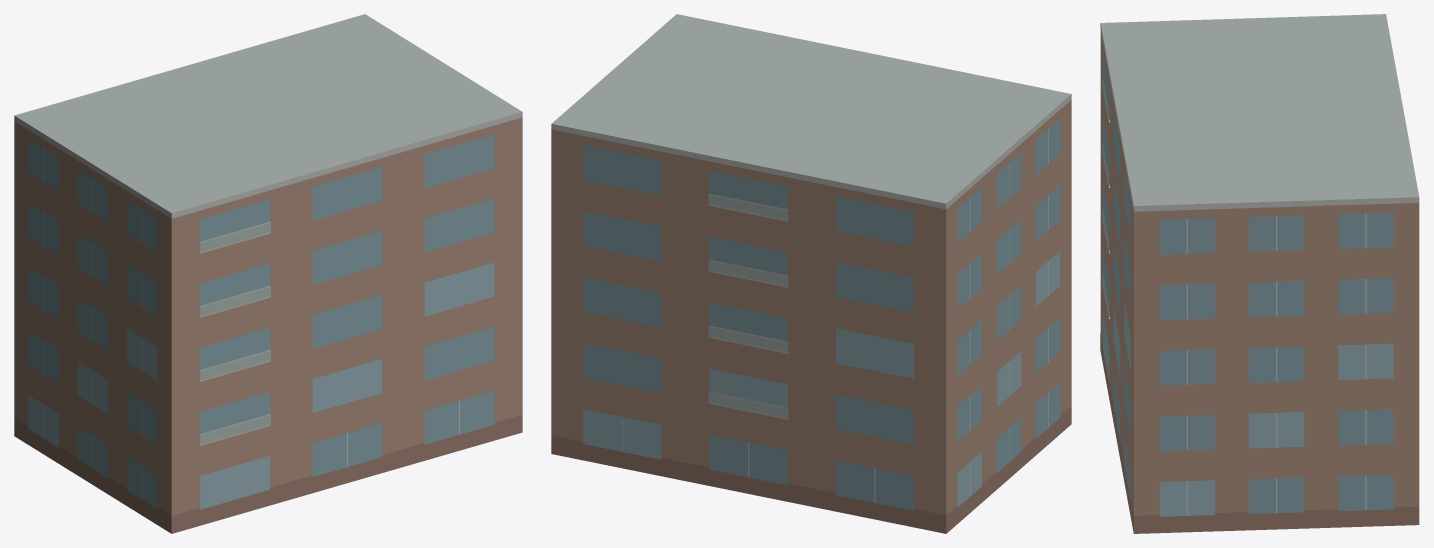
The model's file is survey-upis-32758389.glb.
3 renders of one model, left to right at view 1: azimuth 30°, elevation 25°; view 2: azimuth 150°, elevation 25°; view 3: azimuth 270°, elevation 25°, orthographic. The views are drawn at different scales.
Parts seen in each view (by area): view 1: survey-upis-32758389.tmp; view 2: survey-upis-32758389.tmp; view 3: survey-upis-32758389.tmp.
Boxes of the visible parts, left/top/right/bottom form: survey-upis-32758389.tmp: left=14, top=14, right=522, bottom=533; survey-upis-32758389.tmp: left=551, top=14, right=1071, bottom=533; survey-upis-32758389.tmp: left=1100, top=14, right=1419, bottom=533.
Bounding box in the file's own units: 17.99 × 14.3 × 12.62.
